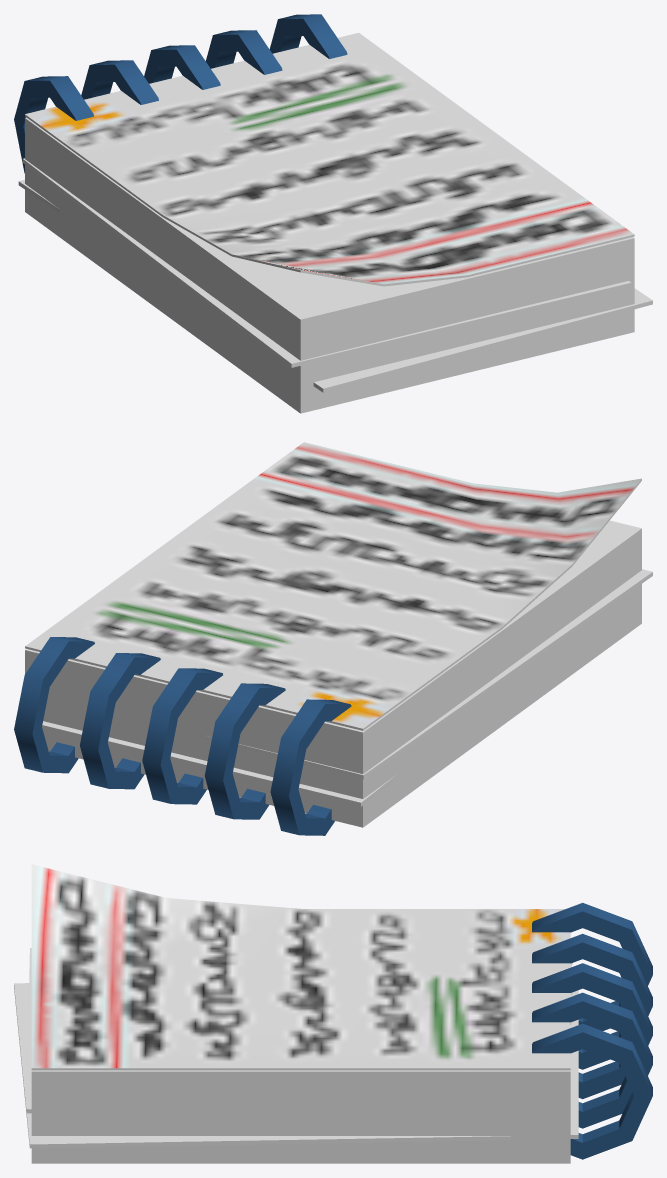
File: 74_prop_note.FBX
The picture shows the model from 3 angles, top to bottom: view 1: azimuth 30°, elevation 25°; view 2: azimuth 150°, elevation 25°; view 3: azimuth 270°, elevation 25°; orthographic projection. The views are drawn at different scales.
Parts seen in each view (by area): view 1: prop_note; view 2: prop_note; view 3: prop_note.
Part boxes in pixels (box(x1,y1,x2,y2)): prop_note: box(14, 14, 652, 413); prop_note: box(14, 442, 652, 835); prop_note: box(14, 864, 652, 1163).
Bounding box in the file's own units: 8.47 × 3.46 × 13.28.
